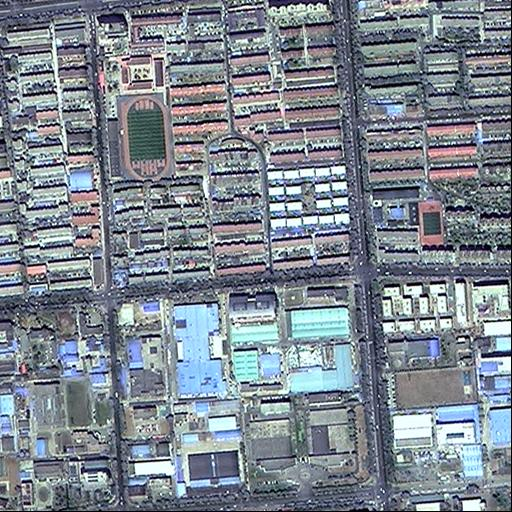school: (94, 52, 175, 185), (369, 182, 446, 246)
